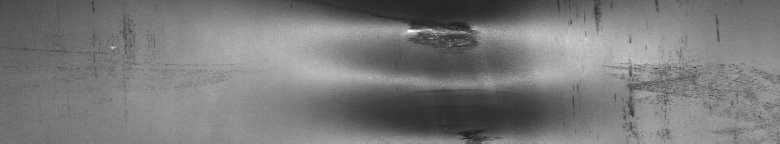ke: (376, 16, 487, 136)
